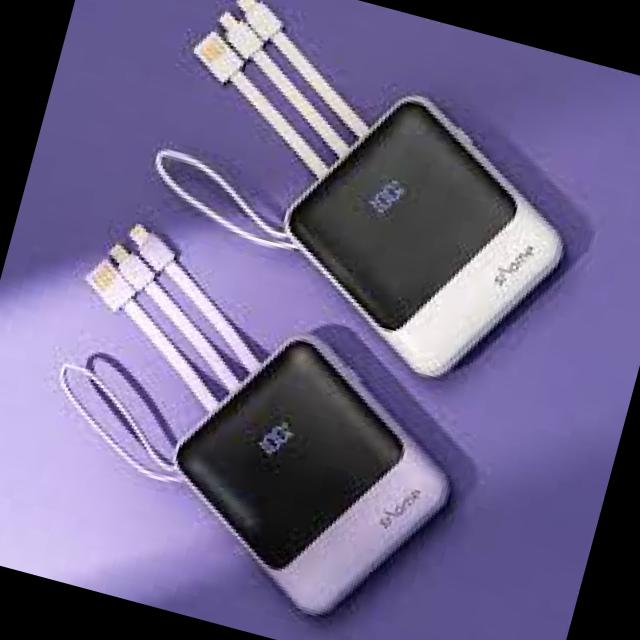power_bank: (139, 306, 491, 640), (256, 70, 600, 402)
